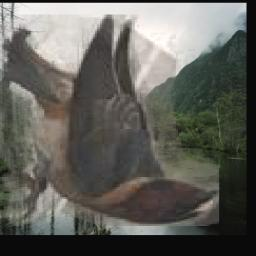Swallow: (0, 15, 220, 227)
